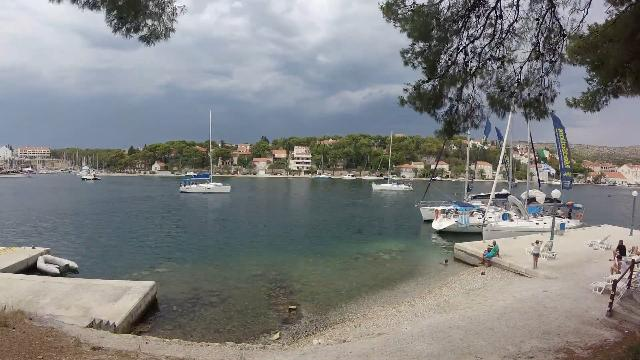Freighter: (1, 162, 40, 180)
Sailboat: (174, 175, 236, 198), (367, 177, 417, 193)
speedboat: (76, 168, 104, 184)
